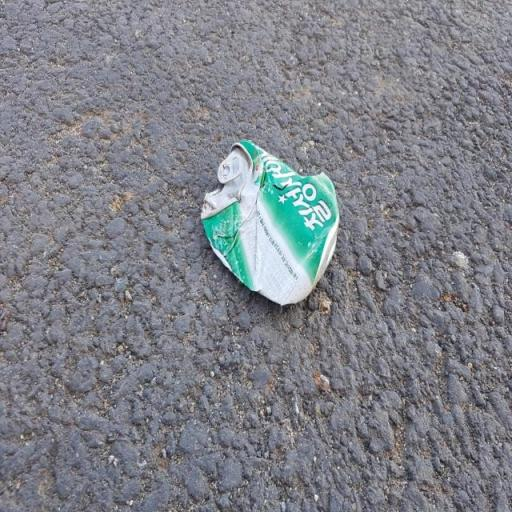metal: (197, 118, 349, 317)
